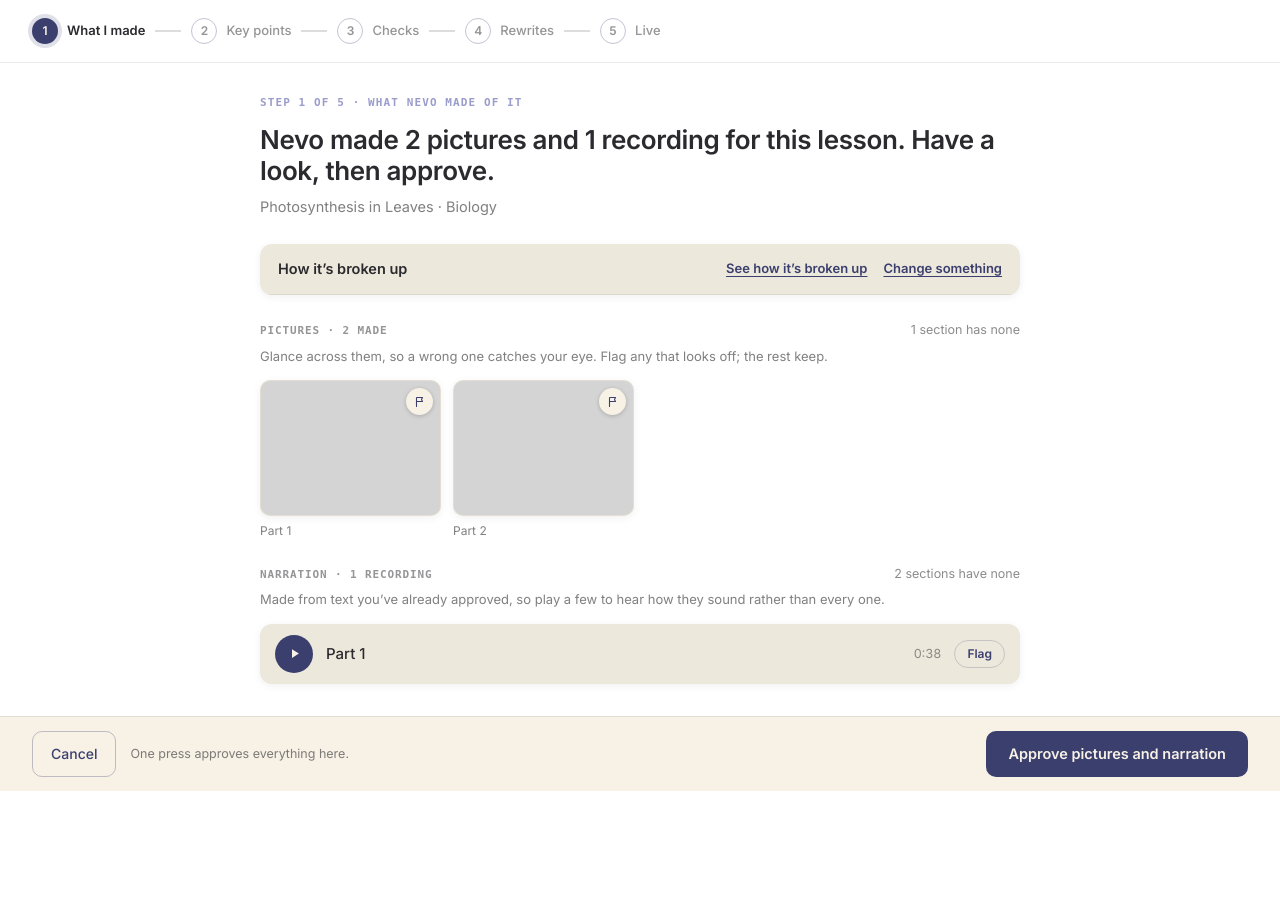
Test: a flagged picture or recording that comes back remade › is marked Remade when it is waiting for a look again
Expected: the navigation bar named "Lesson review steps" is shown, 0,0 -> 1279,63
Click the button named "Flag the picture for Part 2". click: (612, 402)
box: 599,388 -> 626,415
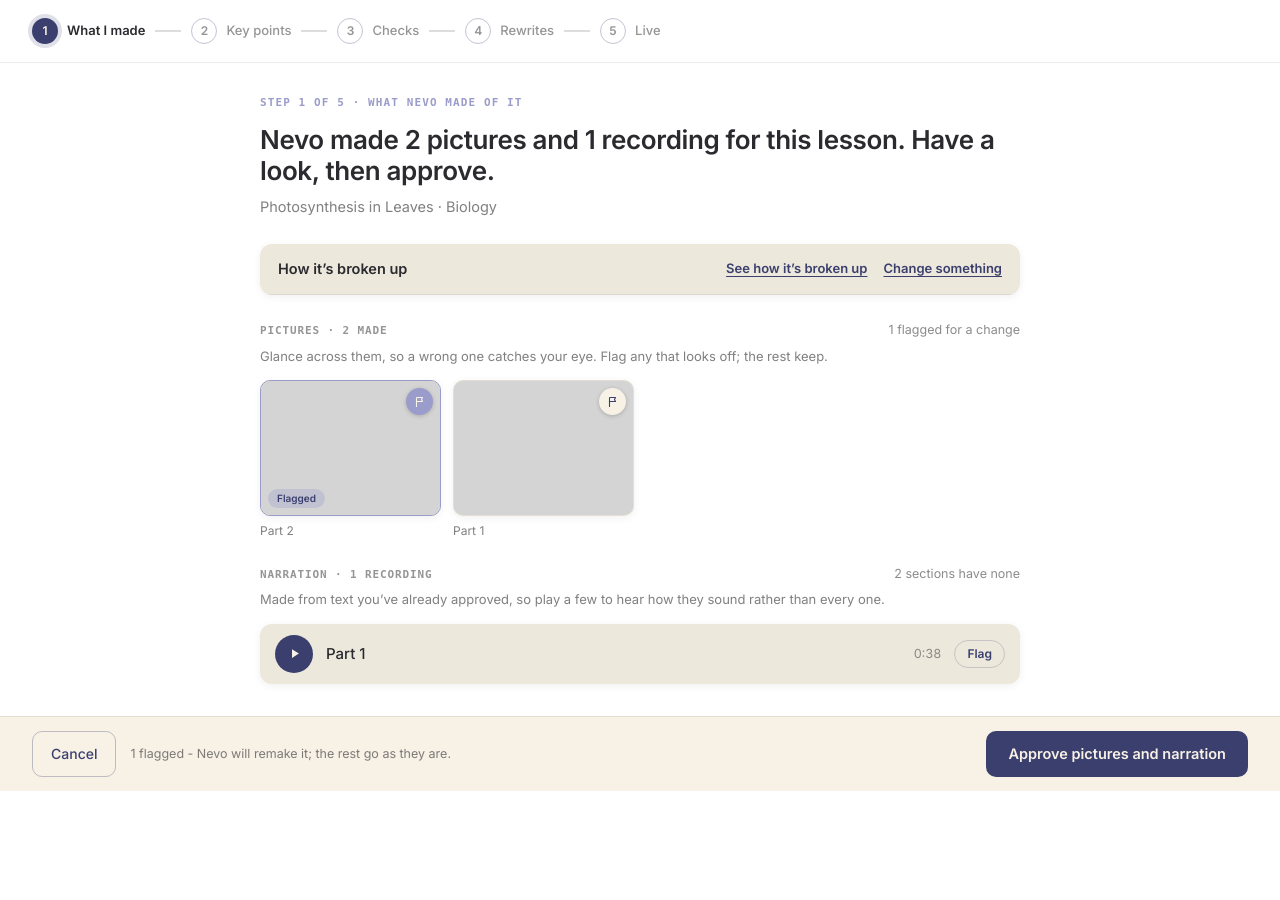
Click the button "Approve pictures and narration". click: (1117, 754)
box: 986,731 -> 1248,777
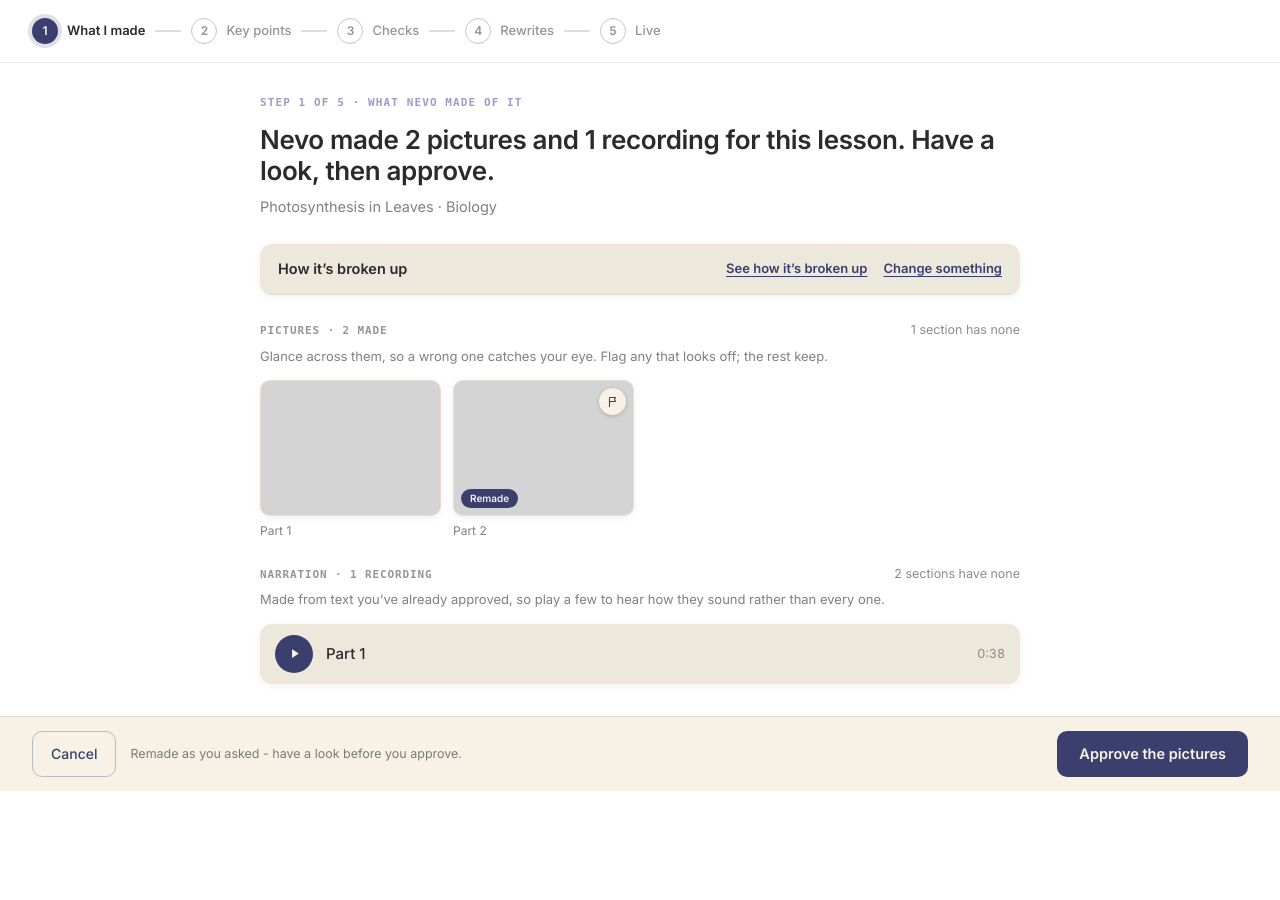
Expected: the text "Remade" is shown, 461,489 -> 518,508
Expected: the text "Remade as you asked - have a look before you approve." is shown, 130,746 -> 462,761
